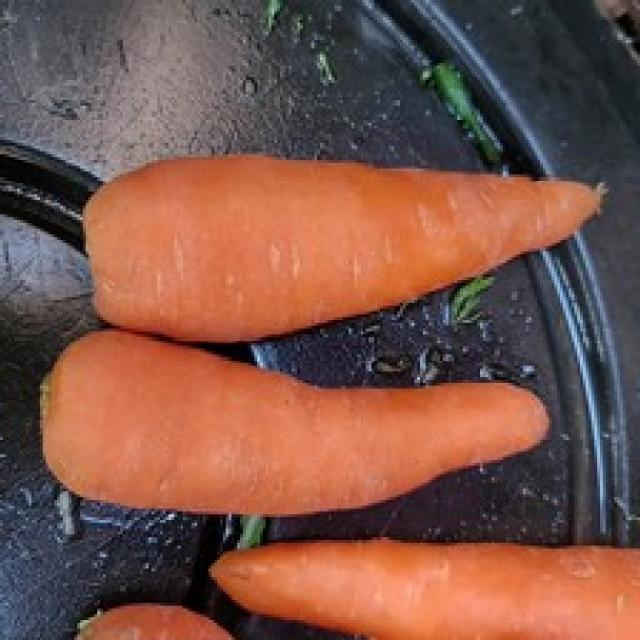carrot: (31, 331, 556, 514), (87, 153, 617, 334), (201, 536, 640, 640)
